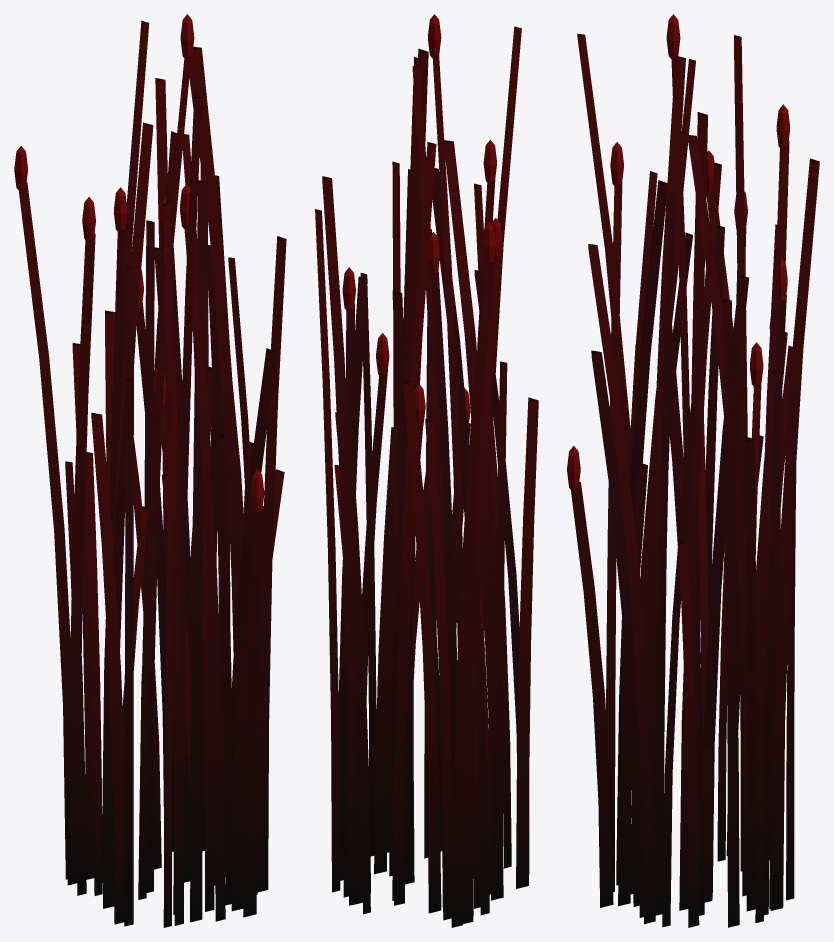
Rendered from wet_sedge_v2.fbx.
3 renders of one model, left to right at view 1: azimuth 30°, elevation 25°; view 2: azimuth 150°, elevation 25°; view 3: azimuth 270°, elevation 25°, orthographic. The views are drawn at different scales.
Parts seen in each view (by area): view 1: wet_sedge_v2; view 2: wet_sedge_v2; view 3: wet_sedge_v2.
Boxes of the visible parts, box(x1,y1,x2,y2) form: wet_sedge_v2: box(14, 14, 286, 927); wet_sedge_v2: box(315, 14, 538, 927); wet_sedge_v2: box(567, 14, 819, 927).
Bounding box in the file's own units: 20.82 × 80.57 × 21.02.
